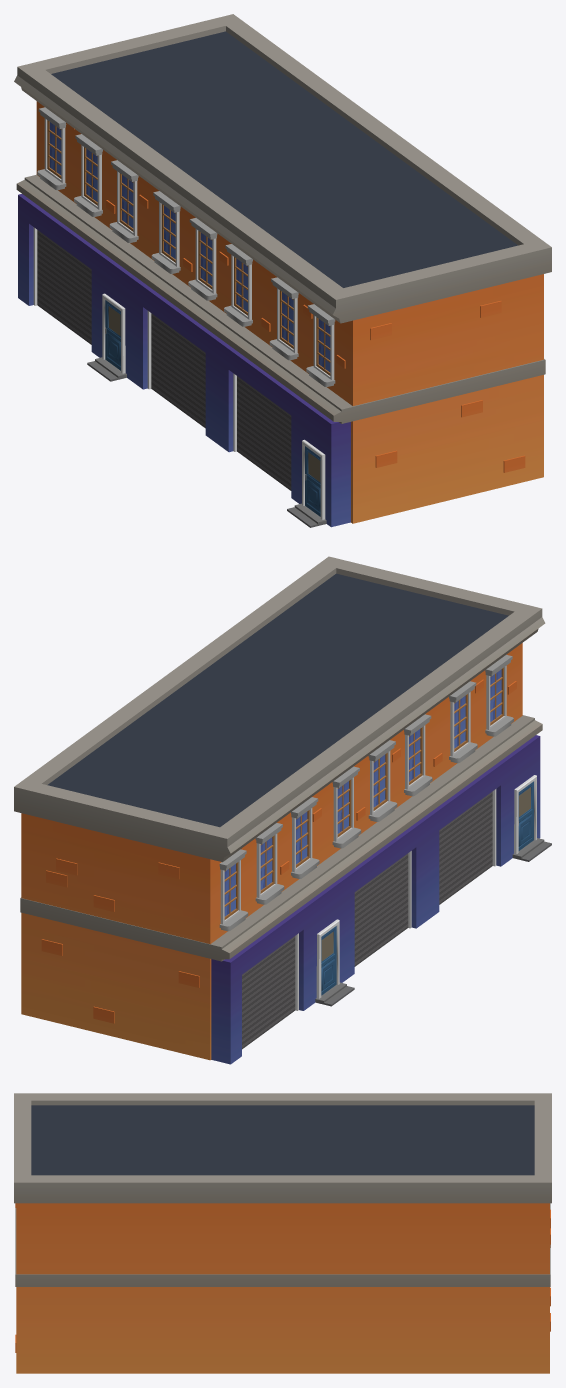
Rendered from Building_20_3_B.fbx.
The picture shows the model from 3 angles, top to bottom: view 1: azimuth 30°, elevation 25°; view 2: azimuth 150°, elevation 25°; view 3: azimuth 270°, elevation 25°; orthographic projection. The views are drawn at different scales.
Visible parts, largest first — view 1: Building_20_3_B; view 2: Building_20_3_B; view 3: Building_20_3_B.
Part boxes in pixels (x1=…): Building_20_3_B: x1=14, y1=14, x2=551, y2=527; Building_20_3_B: x1=14, y1=556, x2=551, y2=1064; Building_20_3_B: x1=14, y1=1093, x2=551, y2=1373.
Size of the model in its own units: 774 by 726 by 1827.
